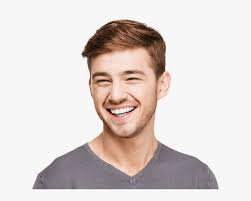noMask: (75, 16, 187, 146)
